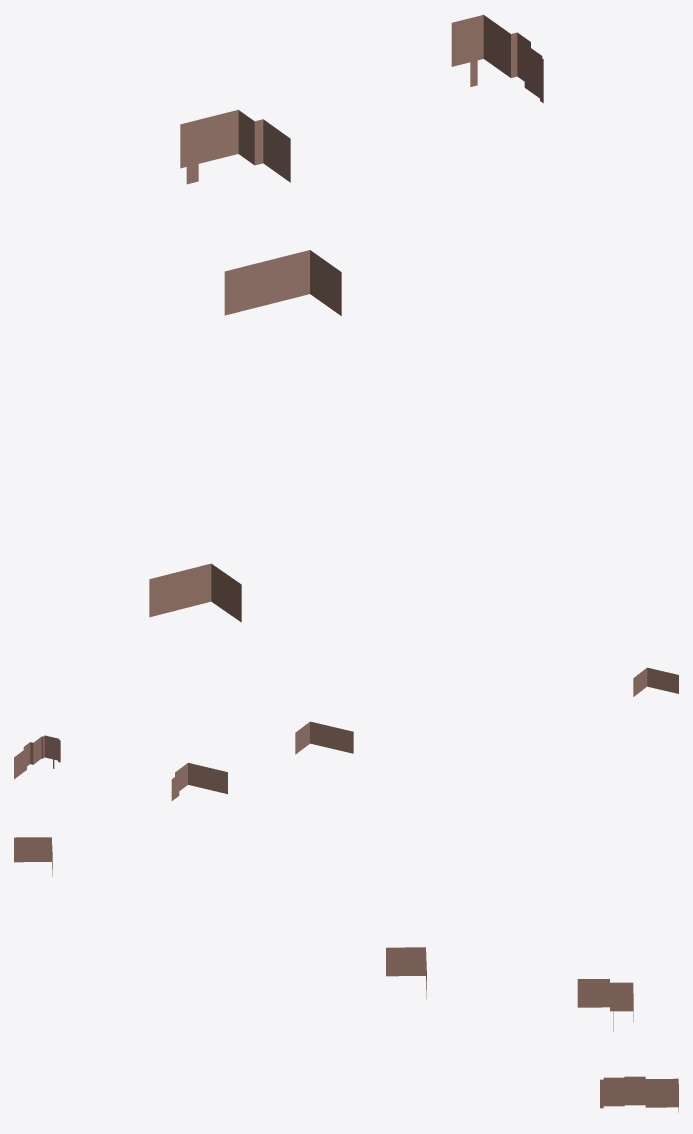
File: c_1633_17837_buildings_residential.glb
The picture shows the model from 3 angles, top to bottom: view 1: azimuth 30°, elevation 25°; view 2: azimuth 150°, elevation 25°; view 3: azimuth 270°, elevation 25°; orthographic projection. The views are drawn at different scales.
Parts seen in each view (by area): view 1: geometry_0; view 2: geometry_0; view 3: geometry_0.
Boxes of the visible parts, x1,y1,x2,y2 form: geometry_0: [149, 14, 543, 622]; geometry_0: [14, 667, 678, 800]; geometry_0: [14, 837, 678, 1112].
Size of the model in its own units: 215 by 12.3 by 232.
